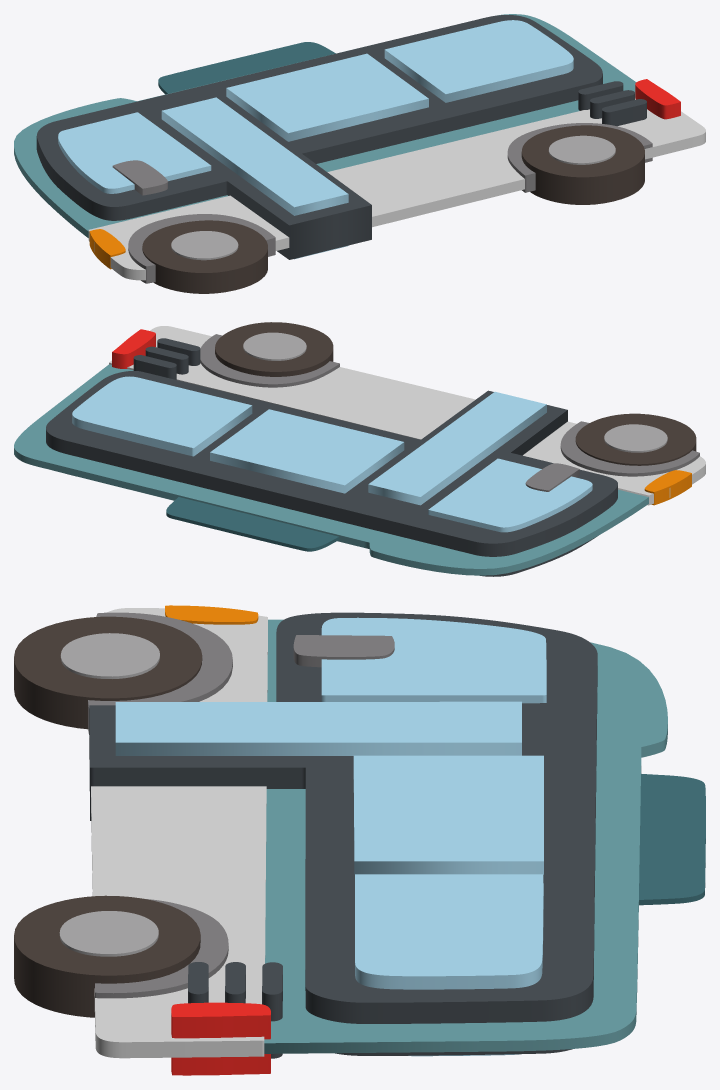
Rendered from emoji_u1f68c.glb.
3 renders of one model, top to bottom at view 1: azimuth 30°, elevation 25°; view 2: azimuth 150°, elevation 25°; view 3: azimuth 270°, elevation 25°, orthographic. The views are drawn at different scales.
Visible parts, largest first — view 1: emoji_u1f68c; view 2: emoji_u1f68c; view 3: emoji_u1f68c.
Boxes of the visible parts, left/top/right/bottom form: emoji_u1f68c: left=14, top=14, right=705, bottom=293; emoji_u1f68c: left=14, top=322, right=705, bottom=576; emoji_u1f68c: left=14, top=605, right=705, bottom=1075.
Size of the model in its own units: 0.035 by 0.003 by 0.0235.
